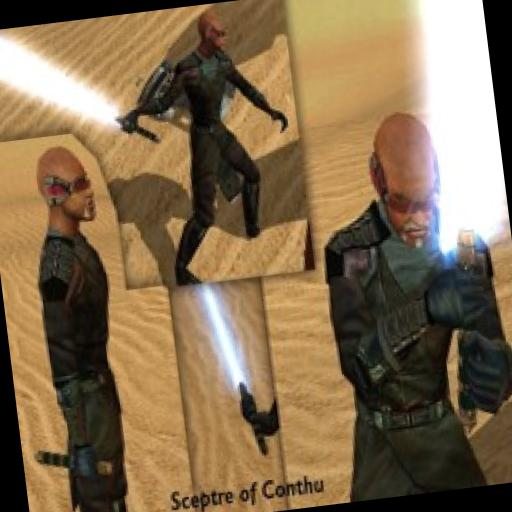human: (109, 6, 305, 290), (21, 143, 140, 512)
lightsaber: (404, 0, 512, 434), (0, 17, 161, 162), (194, 275, 275, 468), (36, 441, 118, 480)
